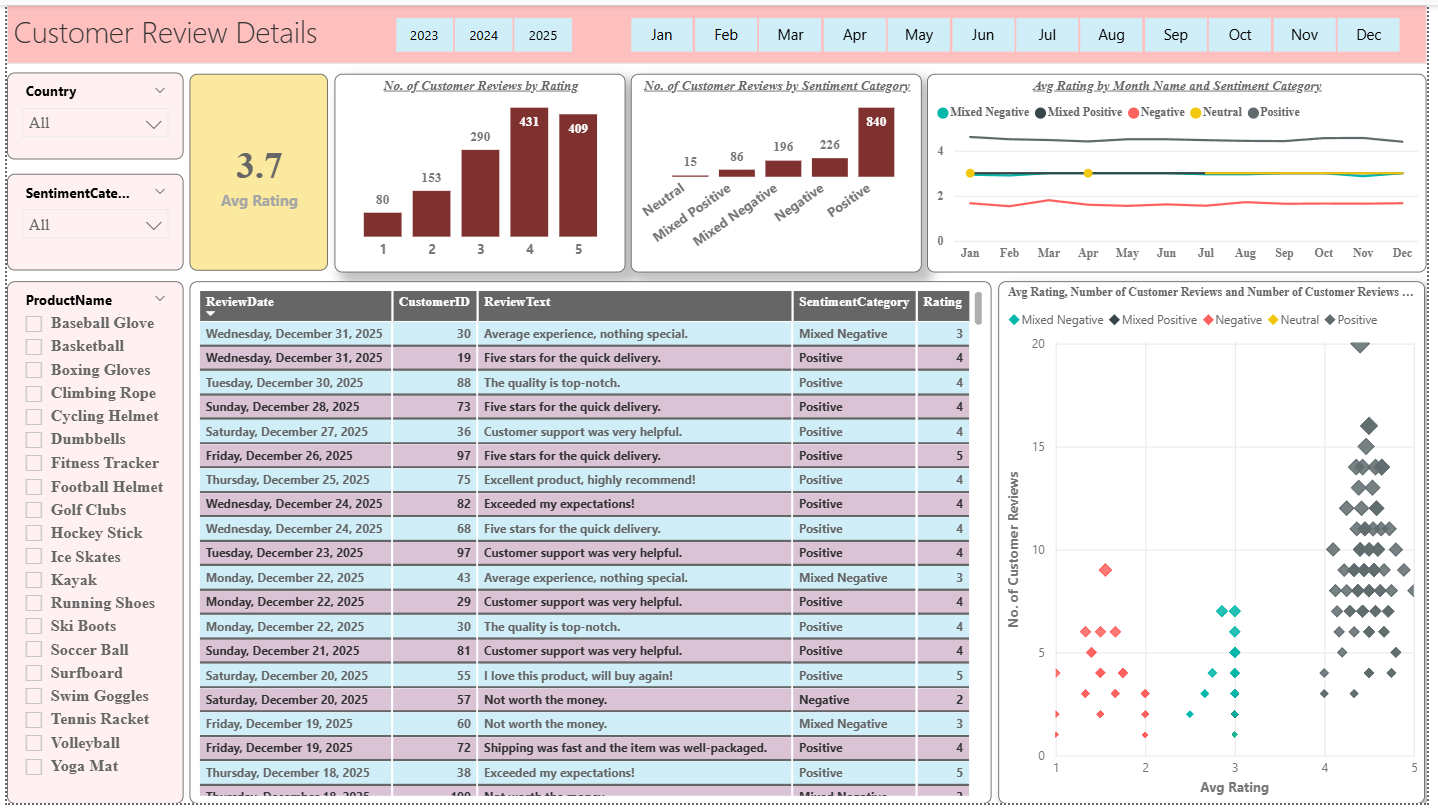

Layout of this report page (visuals, bound fields, positions):
{"tool":"powerbi","page":{"name":"Customer Review Details","canvas":[1280,720],"ordinal":3},"visuals":[{"type":"textbox","box":[0,0,1280,52.6],"z":0},{"type":"slicer","fields":{"Values":["Calendar.MonthNameShort"]},"box":[536.8,4.1,743.2,44.4],"z":1000},{"type":"slicer","fields":{"Values":["Calendar.Year"]},"box":[324.1,4.1,208.5,44.4],"z":2000},{"type":"slicer","fields":{"Values":["dim_products.ProductName"]},"box":[0,248.8,159.3,470.9],"z":3000},{"type":"card","fields":{"Values":["_Calculations.Rating (Average)"]},"box":[165.1,61.6,124.4,177.9],"z":4000},{"type":"columnChart","title":"No. of Customer Reviews by Rating","fields":{"Category":["fact_customer_reviews_with_sentiment.Rating"],"Y":["_Calculations.Number of Customer Reviews"]},"box":[295.3,61.6,262.8,179.1],"z":5000},{"type":"columnChart","title":"No. of Customer Reviews by Sentiment Category","fields":{"Category":["fact_customer_reviews_with_sentiment.SentimentCategory"],"Y":["_Calculations.Number of Customer Reviews"]},"box":[562.8,61.6,262.8,179.1],"z":6000},{"type":"tableEx","fields":{"Values":["fact_customer_reviews_with_sentiment.ReviewDate","fact_customer_reviews_with_sentiment.CustomerID","fact_customer_reviews_with_sentiment.ReviewText","fact_customer_reviews_with_sentiment.SentimentCategory","fact_customer_reviews_with_sentiment.Rating"]},"box":[165.1,248.8,723.3,470.9],"z":7000},{"type":"scatterChart","title":"Avg Rating, Number of Customer Reviews and Number of Customer Reviews by CustomerID and Sentiment Category","fields":{"Category":["dim_customers.CustomerID"],"Series":["fact_customer_reviews_with_sentiment.SentimentCategory"],"X":["_Calculations.Rating (Average)"],"Y":["_Calculations.Number of Customer Reviews"],"Size":["_Calculations.Number of Customer Reviews"]},"box":[894.2,248.8,384.9,470.9],"z":8000},{"type":"slicer","fields":{"Values":["dim_customers.Country"]},"box":[0,61.4,159.3,78.3],"z":9000},{"type":"slicer","fields":{"Values":["fact_customer_reviews_with_sentiment.SentimentCategory"]},"box":[0,152.3,159.3,87.2],"z":10000},{"type":"lineChart","title":"Avg Rating by Month Name and Sentiment Category","fields":{"Category":["Calendar.MonthNameShort"],"Y":["_Calculations.Rating (Average)"],"Series":["fact_customer_reviews_with_sentiment.SentimentCategory"]},"box":[829.1,61.6,450,179.1],"z":11000}]}

Visuals, with their boxes in screenshot pixels (x1, y1, x2, y2), scaled from the page's 1280x720 canvas onto the 1438x811 screenshot:
textbox: l=0, t=0, r=1437, b=59
slicer - Calendar.MonthNameShort: l=603, t=5, r=1437, b=55
slicer - Calendar.Year: l=364, t=5, r=598, b=55
slicer - dim_products.ProductName: l=0, t=280, r=179, b=810
card - _Calculations.Rating (Average): l=185, t=69, r=325, b=270
"No. of Customer Reviews by Rating" columnChart: l=332, t=69, r=627, b=271
"No. of Customer Reviews by Sentiment Category" columnChart: l=632, t=69, r=928, b=271
tableEx - fact_customer_reviews_with_sentiment.ReviewDate x fact_customer_reviews_with_sentiment.CustomerID: l=185, t=280, r=998, b=810
"Avg Rating, Number of Customer Reviews and Number of Customer Reviews by CustomerID and Sentiment Category" scatterChart: l=1005, t=280, r=1437, b=810
slicer - dim_customers.Country: l=0, t=69, r=179, b=157
slicer - fact_customer_reviews_with_sentiment.SentimentCategory: l=0, t=172, r=179, b=270
"Avg Rating by Month Name and Sentiment Category" lineChart: l=931, t=69, r=1437, b=271
